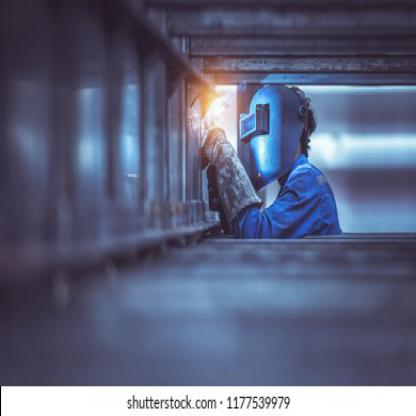with_gloves: (202, 119, 264, 212)
